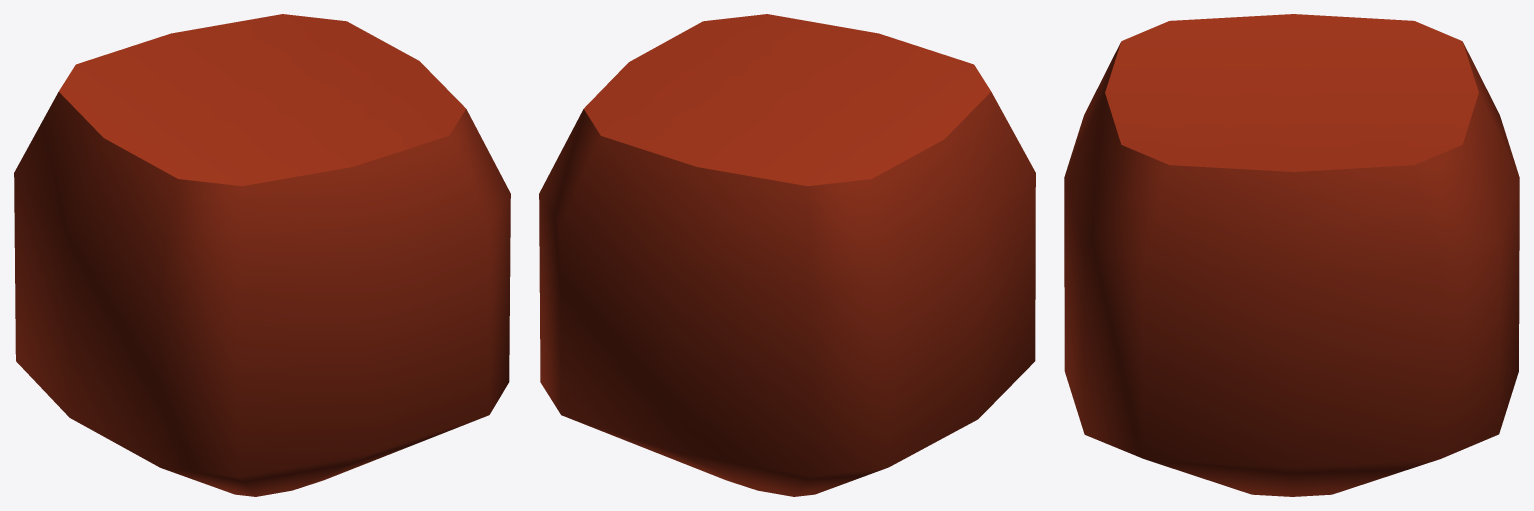
File: glass_wine_content.fbx
3 views of the same model, side by side, from view 1: azimuth 30°, elevation 25°; view 2: azimuth 150°, elevation 25°; view 3: azimuth 270°, elevation 25° (orthographic). The views are drawn at different scales.
Visible parts, largest first — view 1: glass_wine_content; view 2: glass_wine_content; view 3: glass_wine_content.
Part boxes in pixels (x1,y1,x2,y2): glass_wine_content: (14,14,510,496); glass_wine_content: (539,14,1035,496); glass_wine_content: (1064,14,1519,496).
Size of the model in its own units: 19.95 by 18.27 by 19.95.
